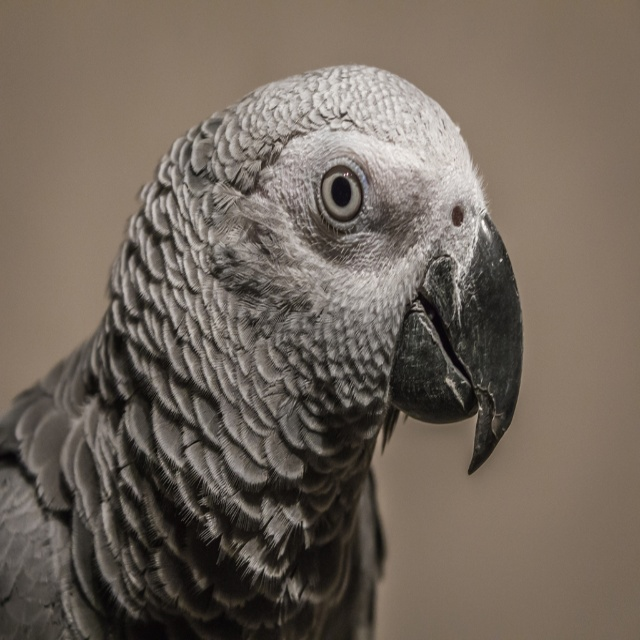Parrot: (0, 65, 524, 639)
